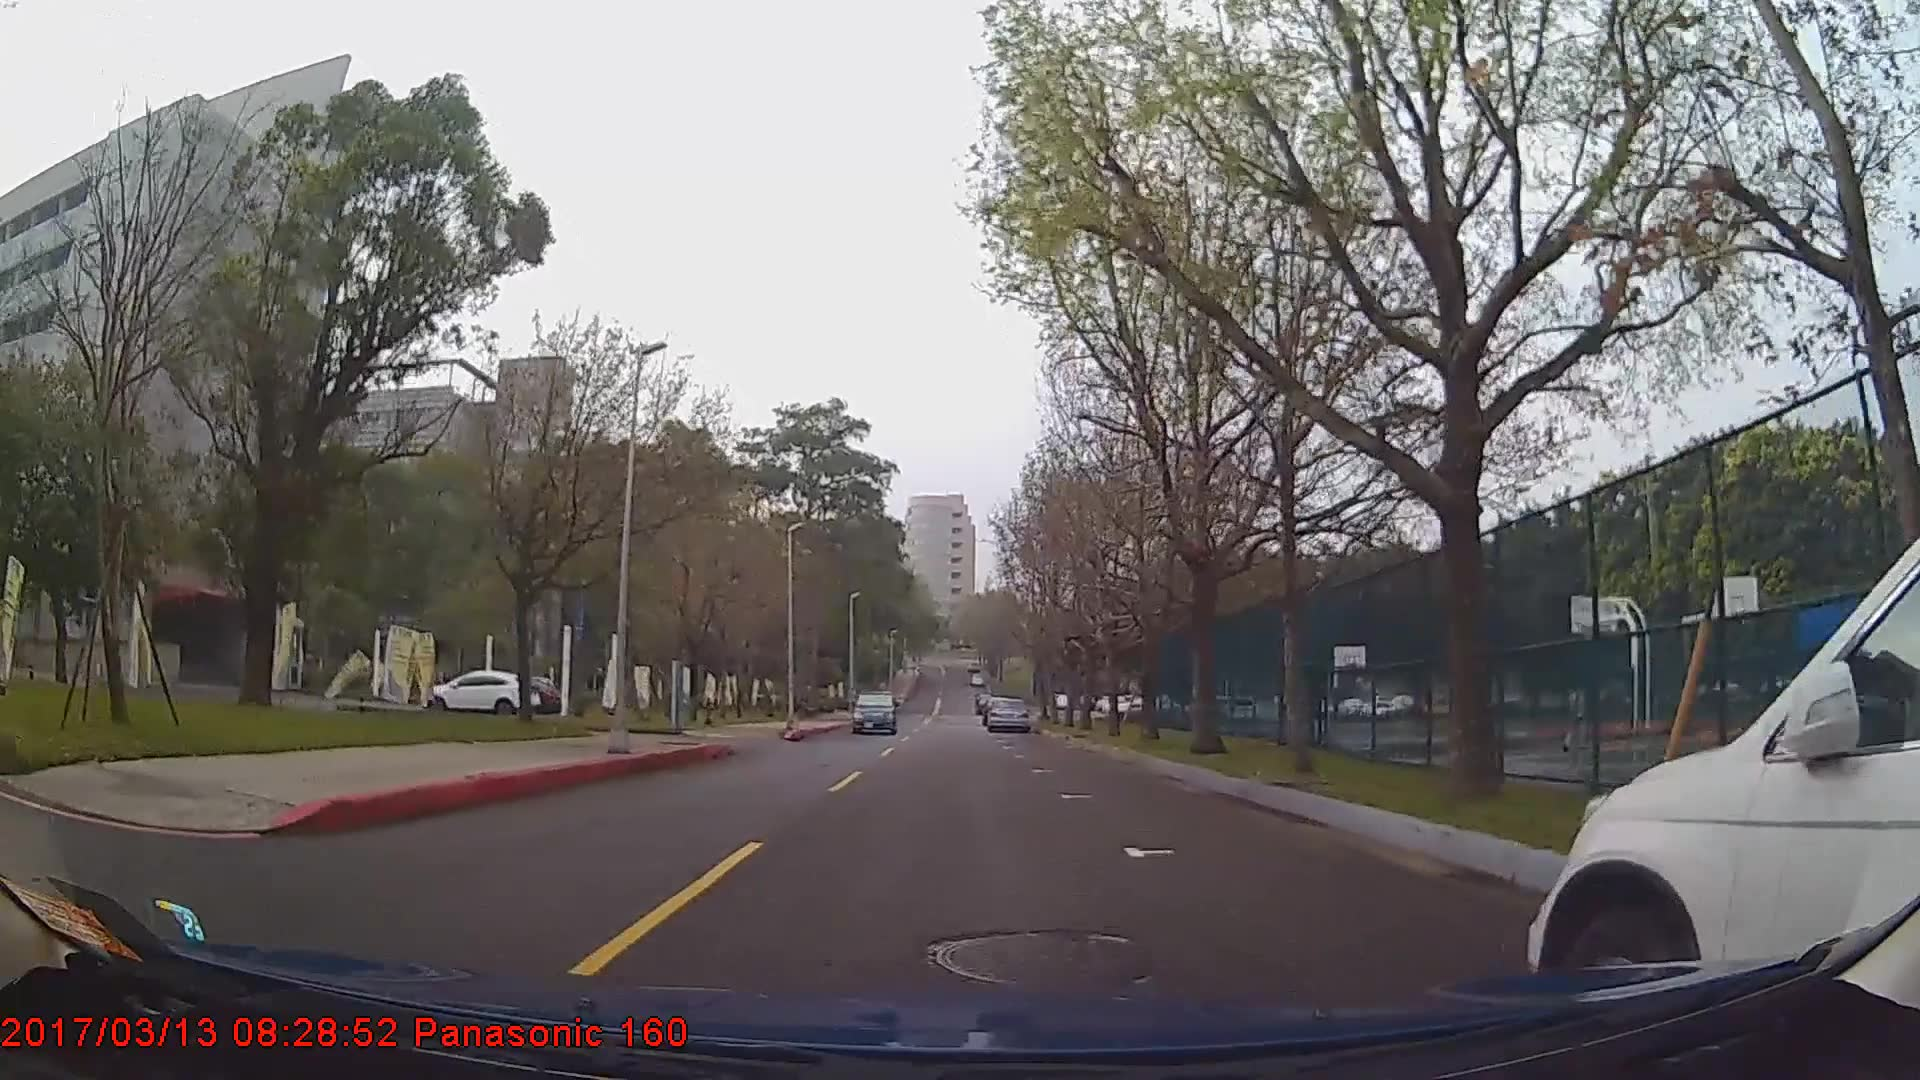vehicle: (1522, 535, 1920, 1054), (421, 667, 541, 716), (852, 687, 899, 736), (986, 695, 1031, 735)
